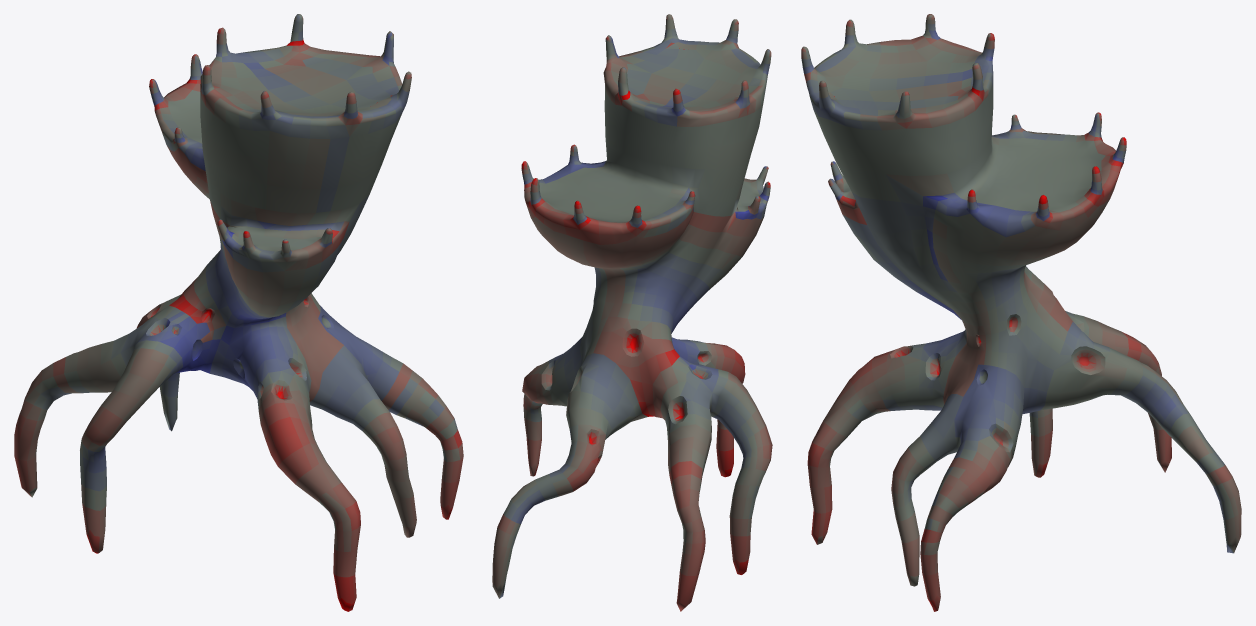
Rendered from sav_fungus_med_03.fbx.
3 views of the same model, side by side, from view 1: azimuth 30°, elevation 25°; view 2: azimuth 150°, elevation 25°; view 3: azimuth 270°, elevation 25° (orthographic). The views are drawn at different scales.
Visible parts, largest first — view 1: sav_fungus_med_03_LOD0; view 2: sav_fungus_med_03_LOD0; view 3: sav_fungus_med_03_LOD0.
Part boxes in pixels (x1,y1,x2,y2): sav_fungus_med_03_LOD0: [14, 14, 463, 611]; sav_fungus_med_03_LOD0: [492, 14, 772, 611]; sav_fungus_med_03_LOD0: [801, 14, 1241, 611].
Bounding box in the file's own units: 6.5 × 9.91 × 7.97.
